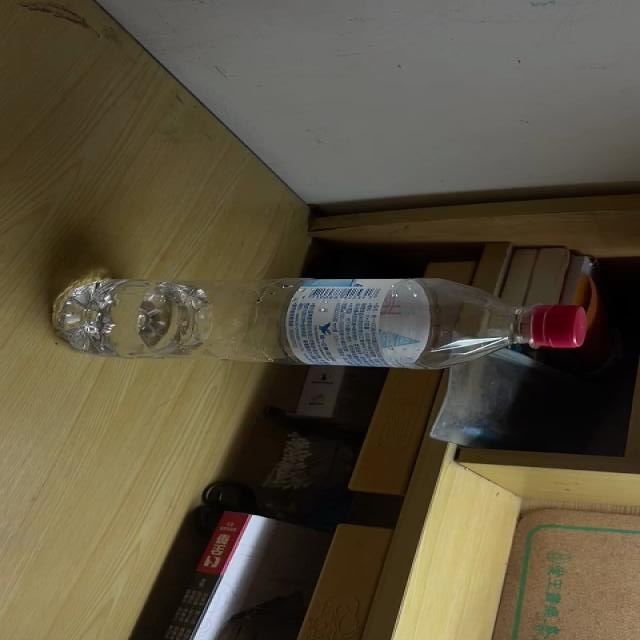Water: (49, 276, 588, 370)
